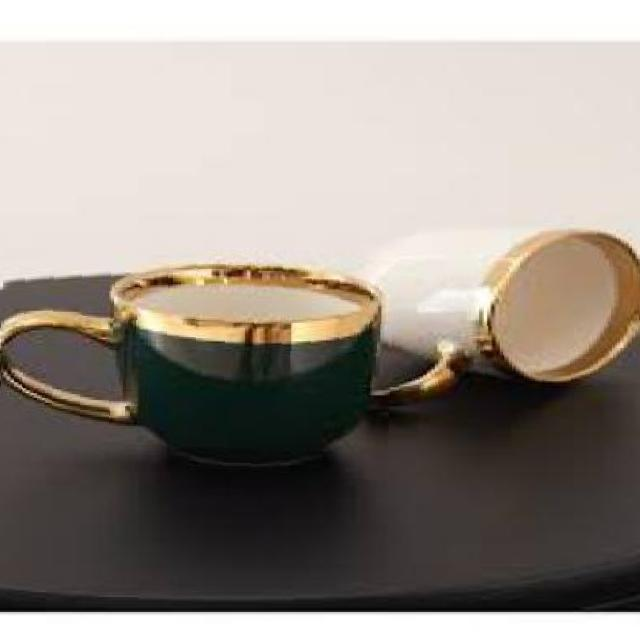cup: (0, 247, 395, 481), (326, 222, 640, 402)
